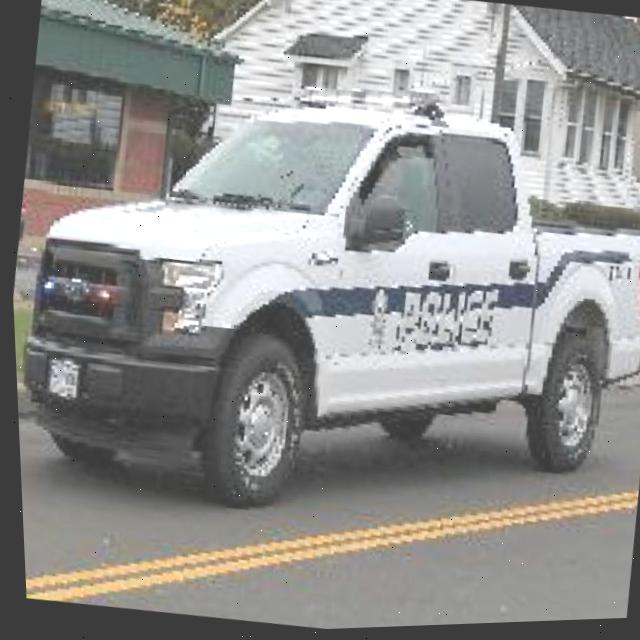emergency: (2, 43, 640, 572)
